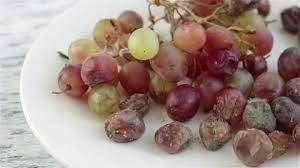Grape Rotten: (54, 1, 300, 166)
